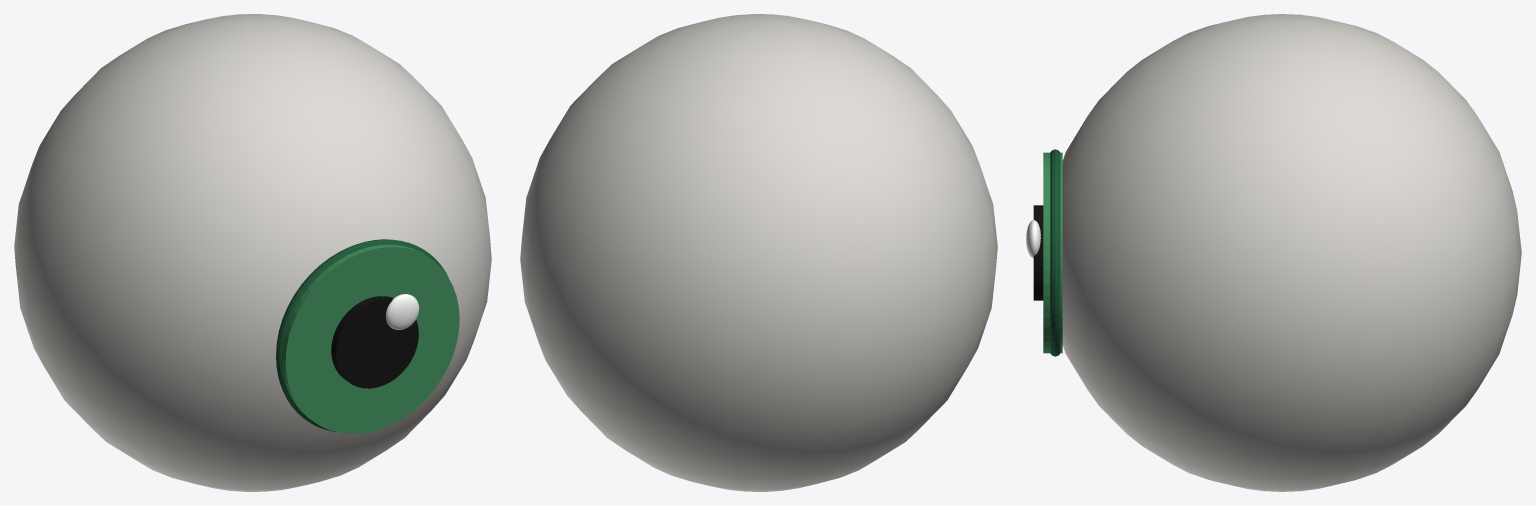
File: ojo.glb
3 renders of one model, left to right at view 1: azimuth 30°, elevation 25°; view 2: azimuth 150°, elevation 25°; view 3: azimuth 270°, elevation 25°, orthographic.
Parts seen in each view (by area): view 1: Sphere, iris; view 2: Sphere; view 3: Sphere, iris.
Boxes of the visible parts, x1,y1,x2,y2 form: Sphere: (14,14,491,491); iris: (276,239,459,433); Sphere: (520,14,997,491); Sphere: (1062,14,1521,491); iris: (1026,149,1062,356).
Bounding box in the file's own units: 1 × 1 × 1.04.
